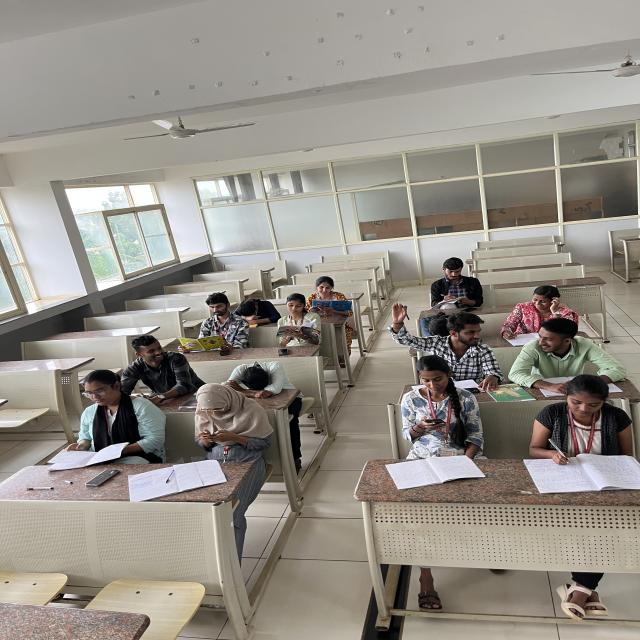Hand Rising: (377, 296, 501, 363)
Reading: (39, 372, 165, 470), (164, 289, 247, 355), (298, 273, 371, 320), (265, 294, 325, 350)
Sleeping: (208, 355, 310, 398), (230, 286, 281, 328), (415, 306, 469, 339)
Using Phone: (389, 360, 484, 448), (178, 385, 284, 453)
Writing: (526, 381, 622, 478), (414, 257, 495, 313), (502, 286, 570, 346)
